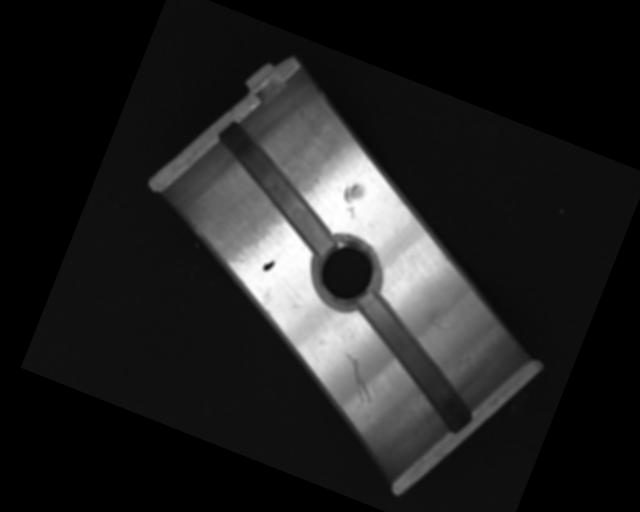blot: (261, 257, 276, 274)
bruise: (335, 178, 367, 221)
gap: (328, 287, 502, 436), (191, 117, 360, 257)
hole: (304, 230, 391, 318)
nick: (331, 350, 386, 407), (427, 316, 453, 333)
